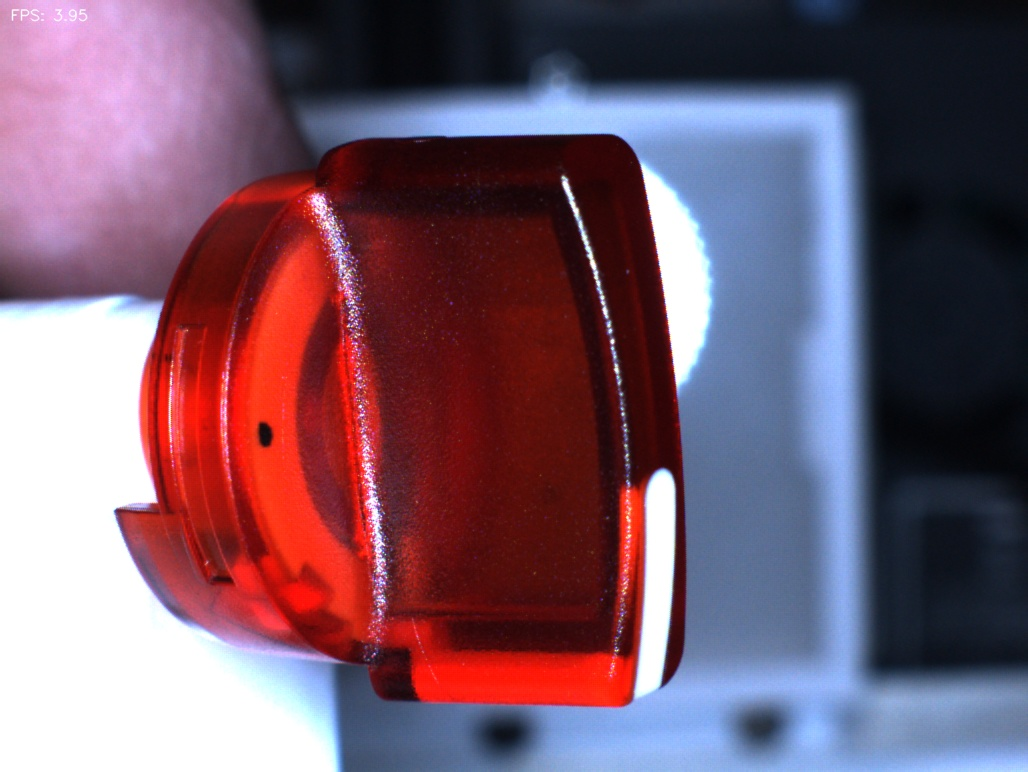PointNoir: (231, 393, 302, 475)
